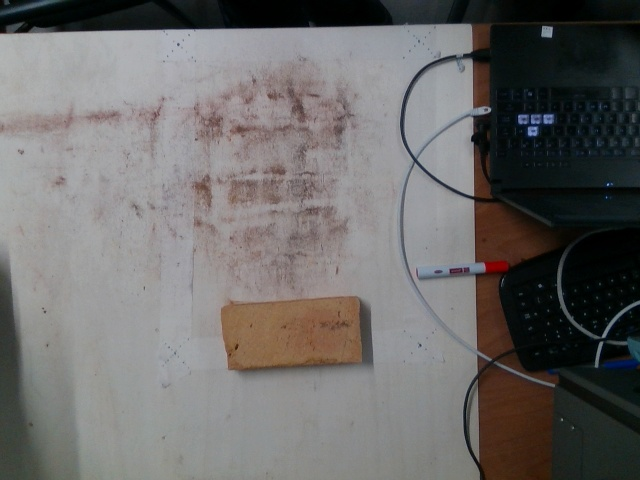brick: (226, 296, 362, 371)
